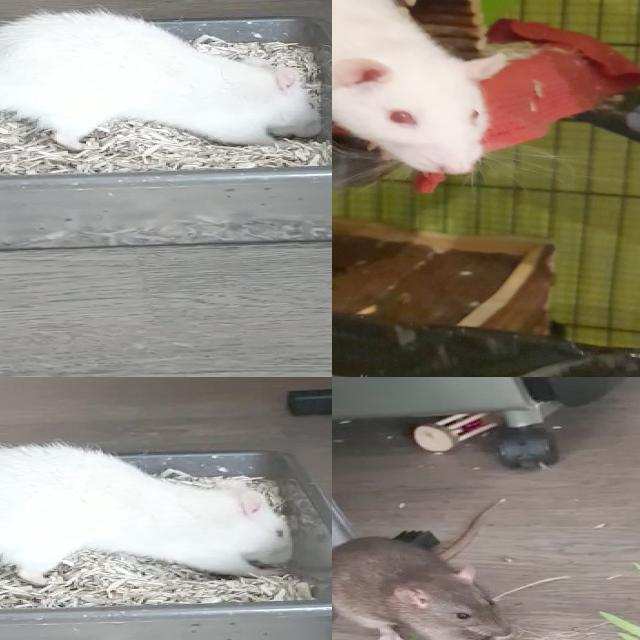rat: (0, 11, 332, 155), (0, 444, 307, 588), (332, 0, 488, 178), (332, 537, 518, 640)
